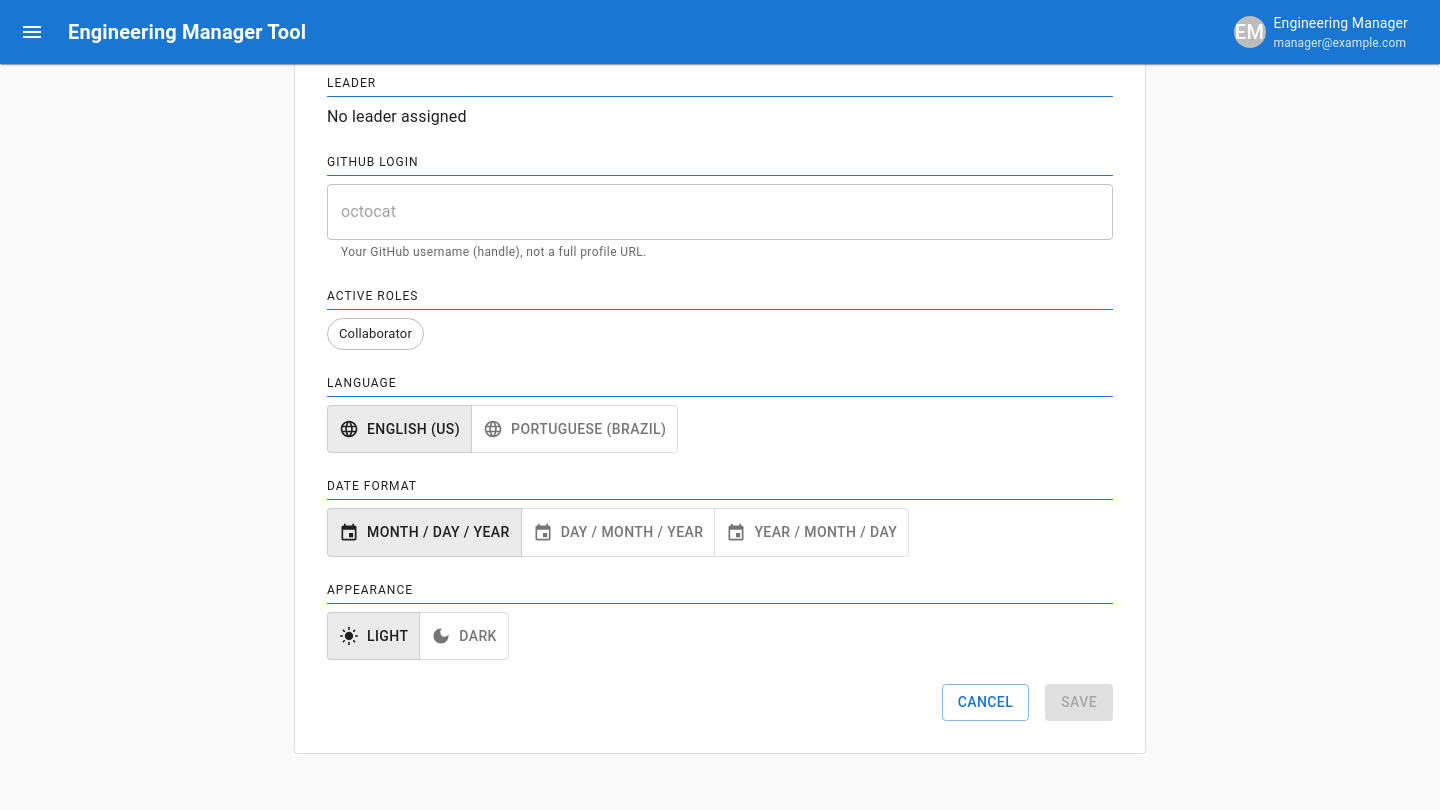
Scenario: profile theme preference › navigates back to home when clicking Cancel
(page scrolled)
What coordinates should you click on to do the following:
click the button "Cancel"
I would click on:
 (985, 703)
Its box is [942, 684, 1029, 721].
(page scrolled)
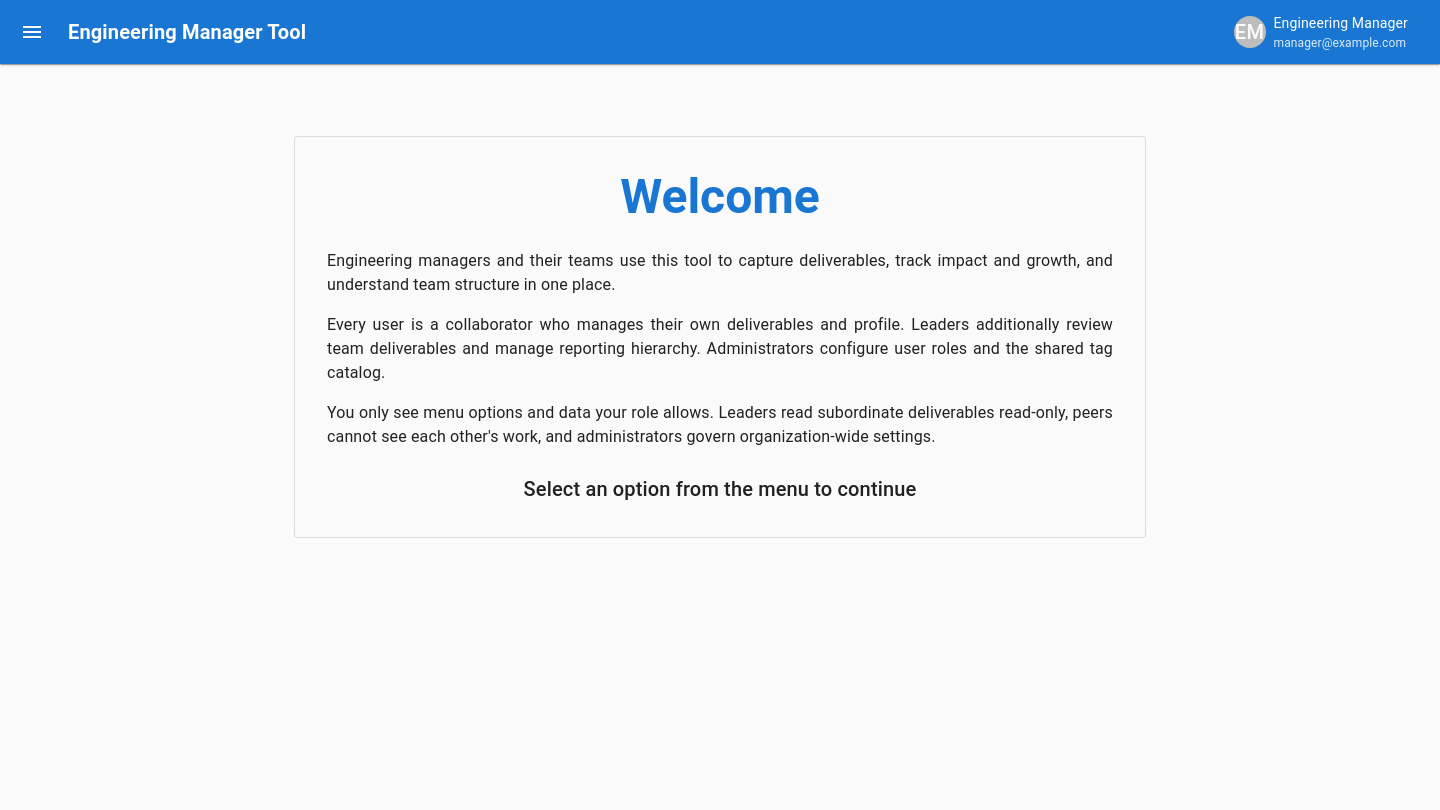
Result: the heading "Welcome" is shown at [620, 168, 820, 225]
